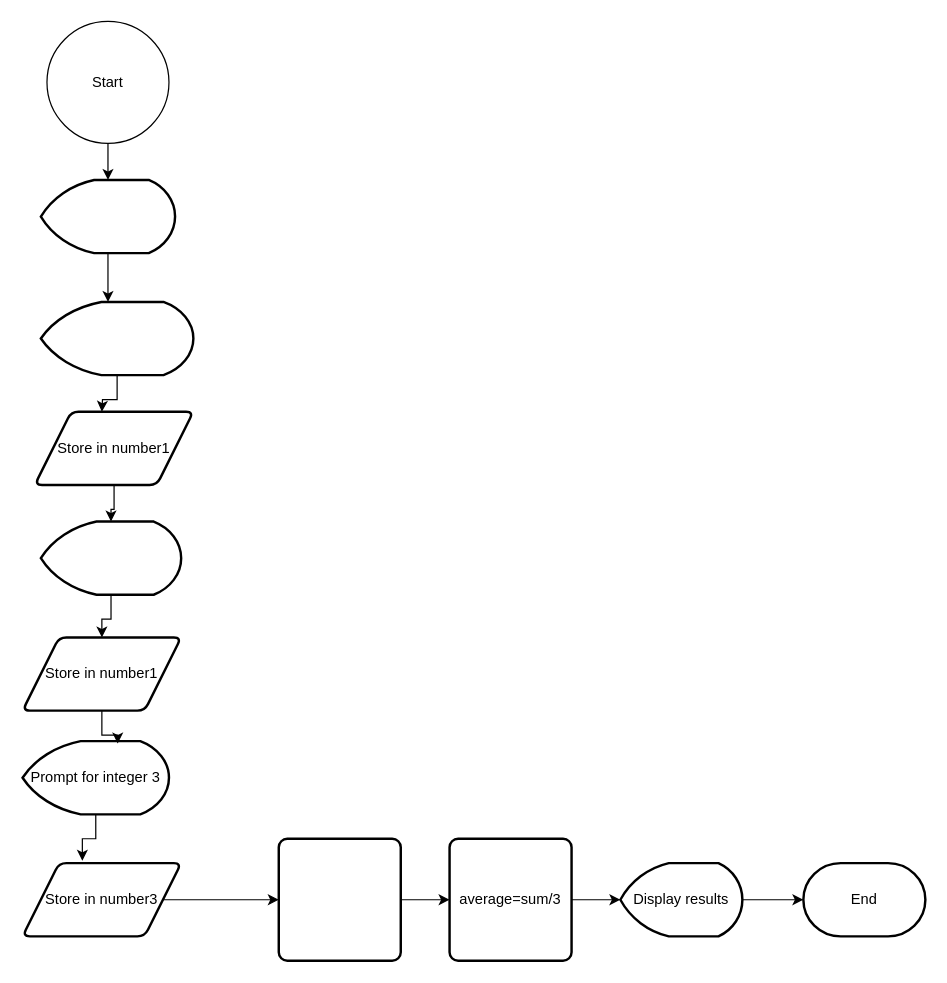
Some shapes in this 947 by 983 pixel diagram are drawn without their labels. The shapes that lost their labels are listed below. From the top down, each one's centre as x and y in pixels, then its label:
point 107,216: Display "Please enter 3 numbers to average them."
point 116,338: Prompt for integer 1
point 110,557: Prompt for integer 2
point 339,899: Add up all 3 numbers and store in sum
